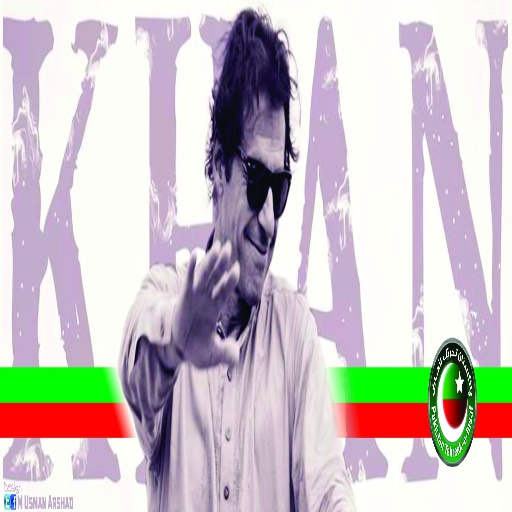hand: (165, 216, 238, 362)
